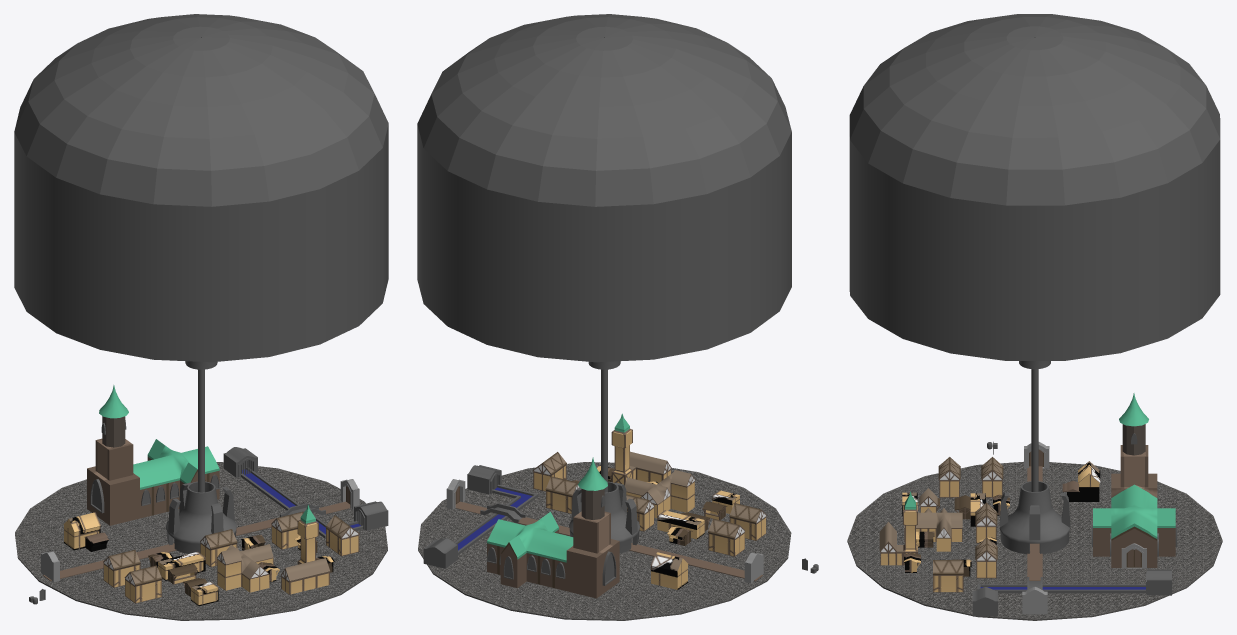
Rendered from LevelTextured.fbx.
3 renders of one model, left to right at view 1: azimuth 30°, elevation 25°; view 2: azimuth 150°, elevation 25°; view 3: azimuth 270°, elevation 25°, orthographic.
Parts seen in each view (by area): view 1: pPipe2, pCylinder2, Church, Tower_of_Lift, pCube14, pCube8, pCube62, RoadLong, River, pCube65, pCube19, pCube56 (+9 smaller); view 2: pPipe2, pCylinder2, Church, Tower_of_Lift, pCube14, pCube8, River, pCube19, pCube56, RoadLong, pCube62, pCube64 (+7 smaller); view 3: pPipe2, pCylinder2, Church, Tower_of_Lift, pCube8, pCube14, River, pCube65, pCylinder3, pCube64, pCube62, pCube56 (+8 smaller).
Part boxes in pixels (left/top/right/bottom): pPipe2: left=14, top=14, right=388, bottom=362; pCylinder2: left=15, top=462, right=387, bottom=620; Church: left=87, top=438, right=219, bottom=525; Tower_of_Lift: left=166, top=361, right=236, bottom=553; pCube14: left=281, top=504, right=330, bottom=594; pCube8: left=217, top=544, right=273, bottom=592; pCube62: left=124, top=565, right=161, bottom=603; RoadLong: left=43, top=518, right=276, bottom=581; River: left=241, top=467, right=363, bottom=538; pCube65: left=325, top=515, right=359, bottom=556; pCube19: left=103, top=550, right=140, bottom=587; pCube56: left=63, top=512, right=100, bottom=550; pPipe2: left=417, top=14, right=791, bottom=362; pCylinder2: left=418, top=462, right=791, bottom=620; Church: left=487, top=511, right=619, bottom=598; Tower_of_Lift: left=569, top=361, right=639, bottom=553; pCube14: left=611, top=413, right=671, bottom=485; pCube8: left=624, top=470, right=695, bottom=517; River: left=454, top=484, right=538, bottom=554; pCube19: left=708, top=518, right=745, bottom=556; pCube56: left=650, top=552, right=688, bottom=589; RoadLong: left=516, top=517, right=762, bottom=581; pCube62: left=729, top=503, right=766, bottom=540; pCube64: left=545, top=476, right=579, bottom=513; pPipe2: left=849, top=14, right=1220, bottom=360; pCylinder2: left=847, top=461, right=1222, bottom=620; Church: left=1093, top=445, right=1175, bottom=567; Tower_of_Lift: left=999, top=361, right=1070, bottom=554; pCube8: left=904, top=488, right=962, bottom=551; pCube14: left=879, top=491, right=917, bottom=565; River: left=977, top=584, right=1145, bottom=593; pCube65: left=933, top=560, right=963, bottom=592; pCylinder3: left=1031, top=369, right=1038, bottom=491; pCube64: left=975, top=537, right=997, bottom=578; pCube62: left=938, top=457, right=960, bottom=497; pCube56: left=1078, top=461, right=1100, bottom=501.
Bounding box in the file's own units: 26.63 × 36.3 × 24.47.
10 materials, 7 textured.
